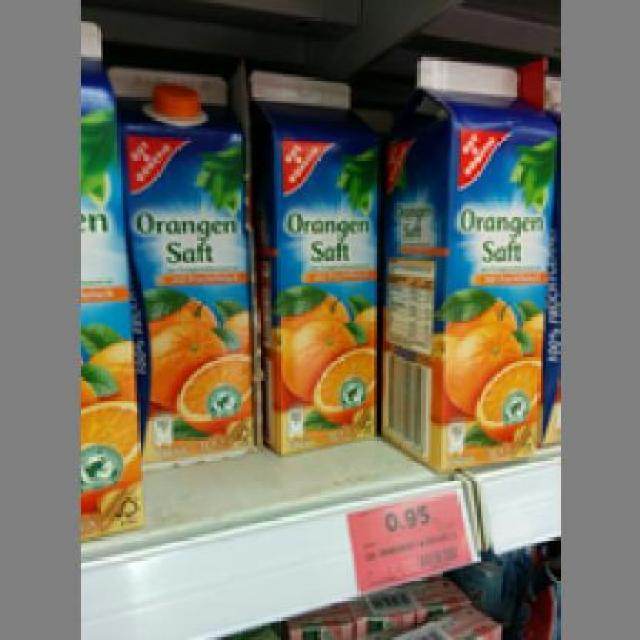Juice: (380, 53, 557, 470), (106, 57, 254, 454), (243, 66, 386, 454)
